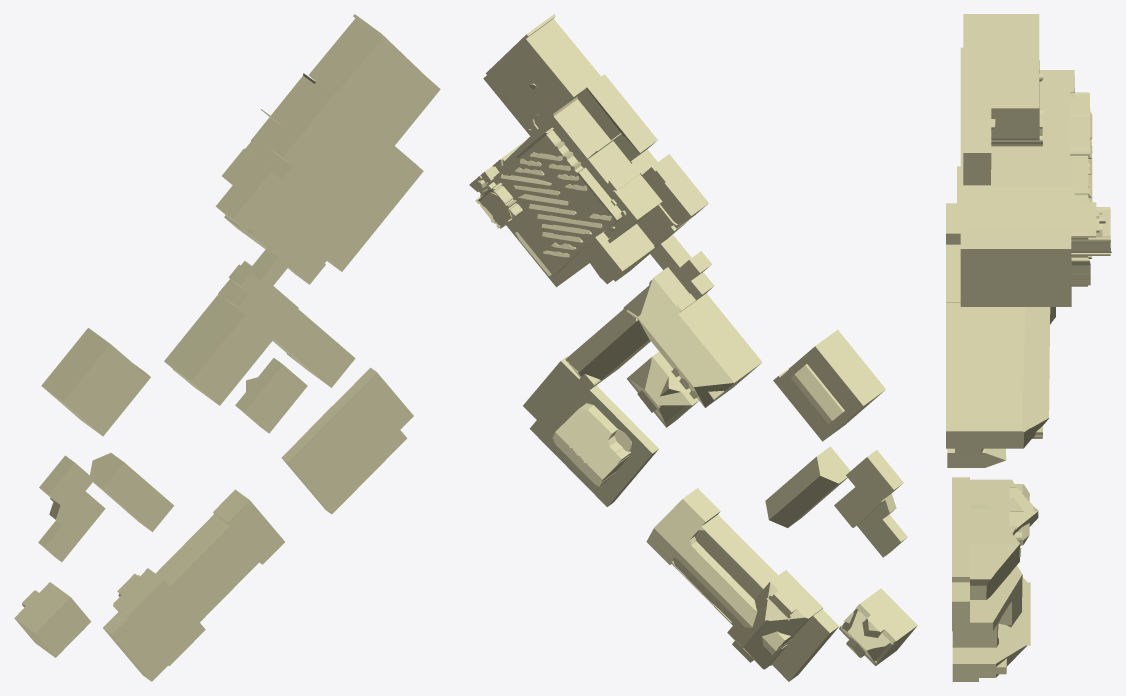
The model's file is buildingsYellow.fbx.
The picture shows the model from 3 angles, left to right: view 1: azimuth 30°, elevation 25°; view 2: azimuth 150°, elevation 25°; view 3: azimuth 270°, elevation 25°; orthographic projection. The views are drawn at different scales.
Parts seen in each view (by area): view 1: yellow:Analysis_ROMANOhellgelb; view 2: yellow:Analysis_ROMANOhellgelb; view 3: yellow:Analysis_ROMANOhellgelb.
Part boxes in pixels (bbox=[...]): yellow:Analysis_ROMANOhellgelb: bbox=[14, 14, 440, 681]; yellow:Analysis_ROMANOhellgelb: bbox=[469, 14, 917, 681]; yellow:Analysis_ROMANOhellgelb: bbox=[946, 14, 1111, 681].
Size of the model in its own units: 114 by 28.52 by 157.
